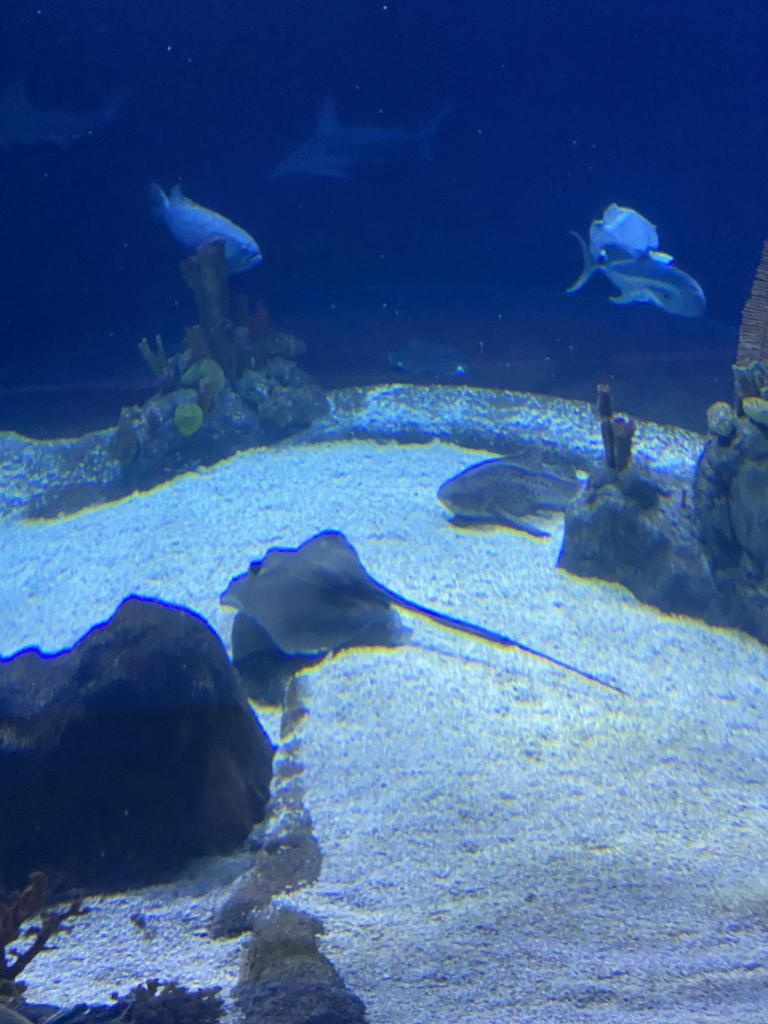fish: (437, 453, 600, 523), (144, 188, 262, 268), (563, 256, 717, 310), (578, 206, 670, 260)
shark: (272, 108, 434, 180)
stingray: (220, 528, 396, 652)
